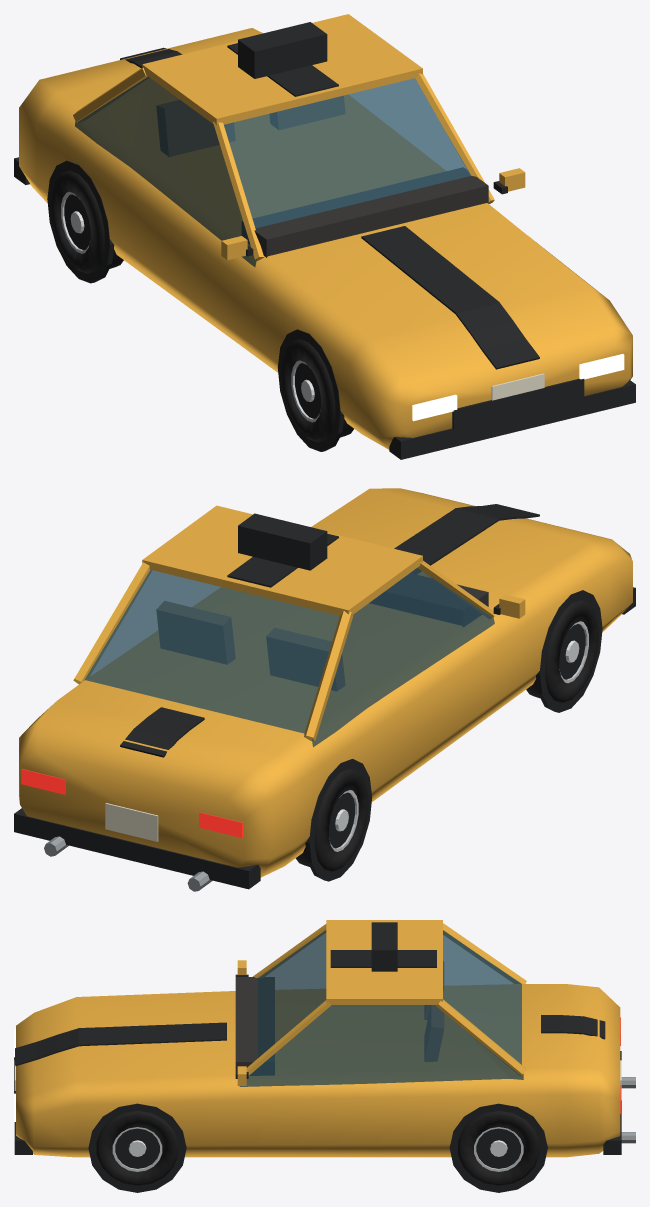
The model's file is lantern-taxi.glb.
The picture shows the model from 3 angles, top to bottom: view 1: azimuth 30°, elevation 25°; view 2: azimuth 150°, elevation 25°; view 3: azimuth 270°, elevation 25°; orthographic projection. The views are drawn at different scales.
Parts seen in each view (by area): view 1: body, wheel_FR, wheel_RR, plate_F, headlight_R, headlight_L; view 2: body, wheel_RR, wheel_FR, plate_R, taillight_L, taillight_R; view 3: body, wheel_FL, wheel_RL.
Part boxes in pixels (box(x1,y1,x2,y2)): body: box(14, 14, 635, 459); wheel_FR: box(281, 339, 353, 442); wheel_RR: box(51, 170, 123, 273); plate_F: box(491, 373, 544, 400); headlight_R: box(412, 394, 457, 421); headlight_L: box(579, 354, 624, 379); body: box(14, 488, 635, 889); wheel_RR: box(295, 768, 368, 871); wheel_FR: box(526, 600, 598, 703); plate_R: box(105, 803, 158, 841); taillight_L: box(21, 769, 65, 794); taillight_R: box(199, 812, 242, 837); body: box(14, 920, 621, 1192); wheel_FL: box(96, 1110, 178, 1185); wheel_RL: box(458, 1110, 539, 1185).
Bounding box in the file's own units: 2.05 × 1.73 × 4.74.
